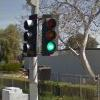Traffic light: (19, 9, 62, 65)
